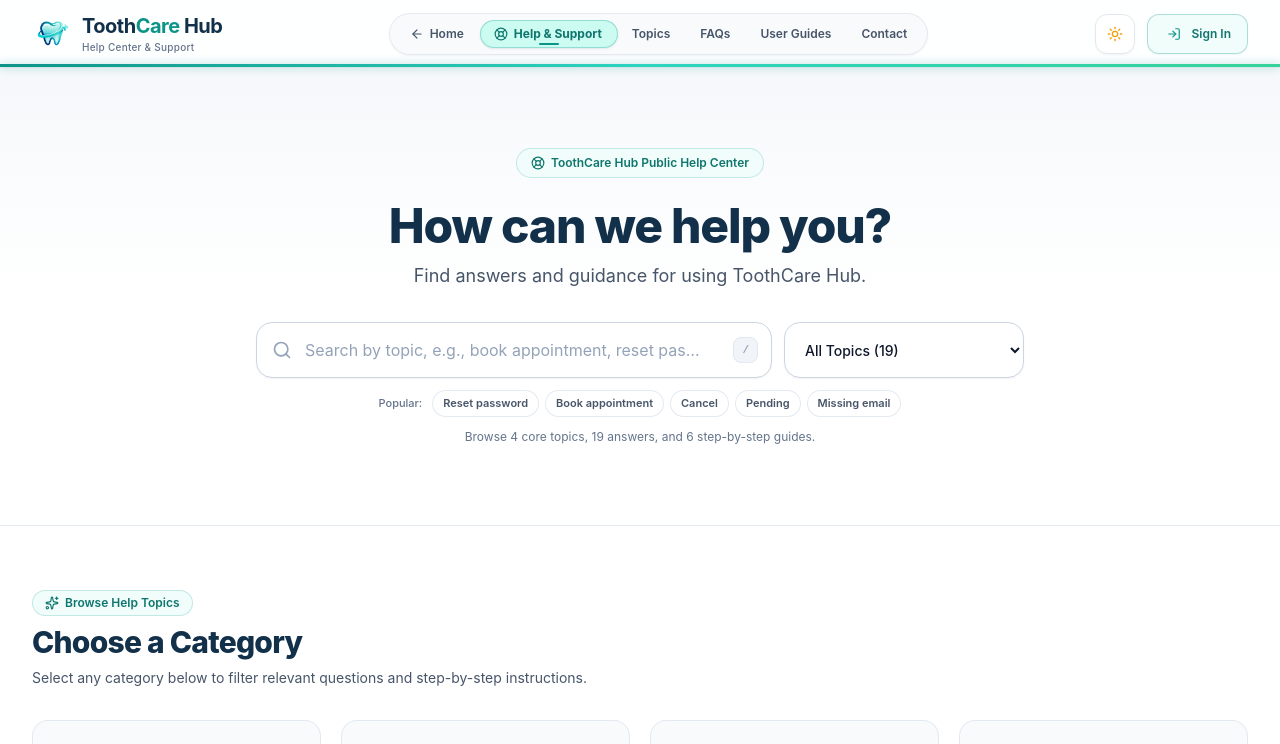
Test: Public Help Center & Support (/help-support) › searches across FAQ titles and answer body text, shows empty state for no matches, and resets cleanly
// Match text inside an answer body ("sanitization buffers")
Step 1. Replace the text in the search field named "Search help articles, FAQs, and user guides" with "sanitization buffers" → x=514, y=350, box left=256, top=322, right=772, bottom=378
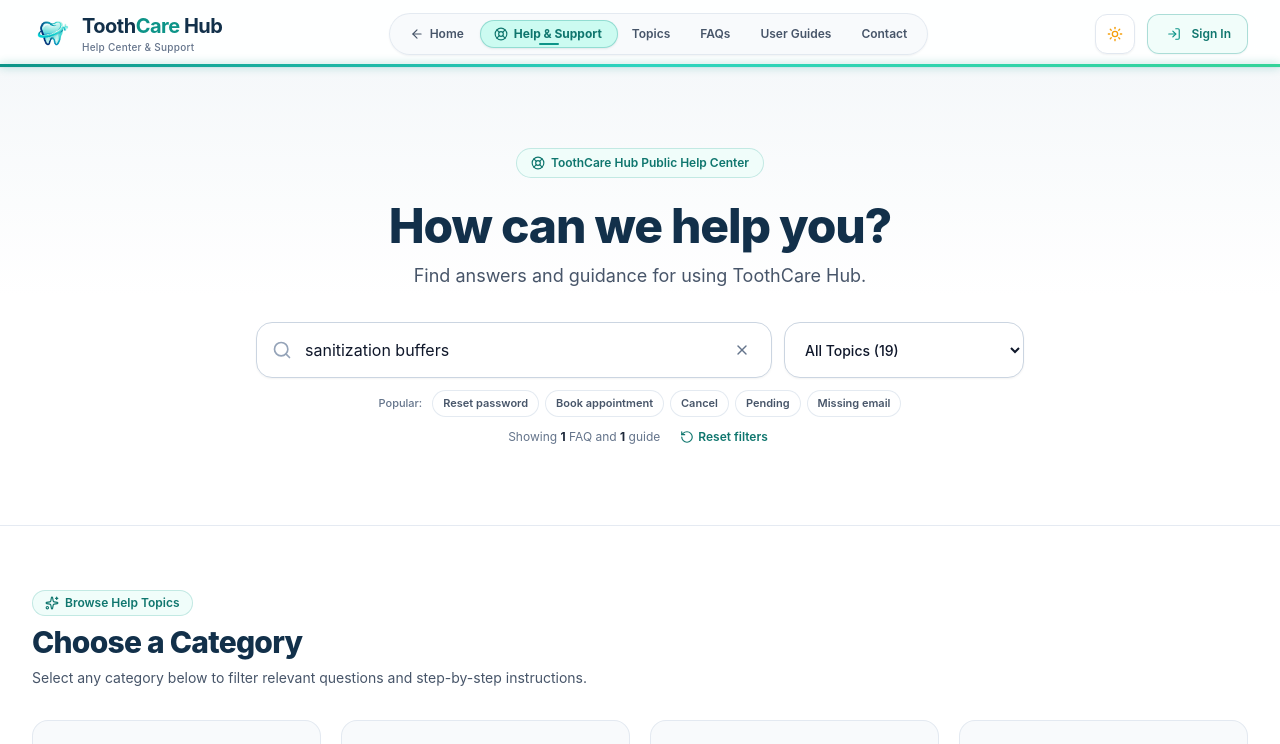
expect the button "How do I log in?" is not shown: met
// No-results empty state
Step 2. Replace the text in the search field named "Search help articles, FAQs, and user guides" with "zzzz-unmatched-topic" → x=514, y=350, box left=256, top=322, right=772, bottom=378
(page scrolled)
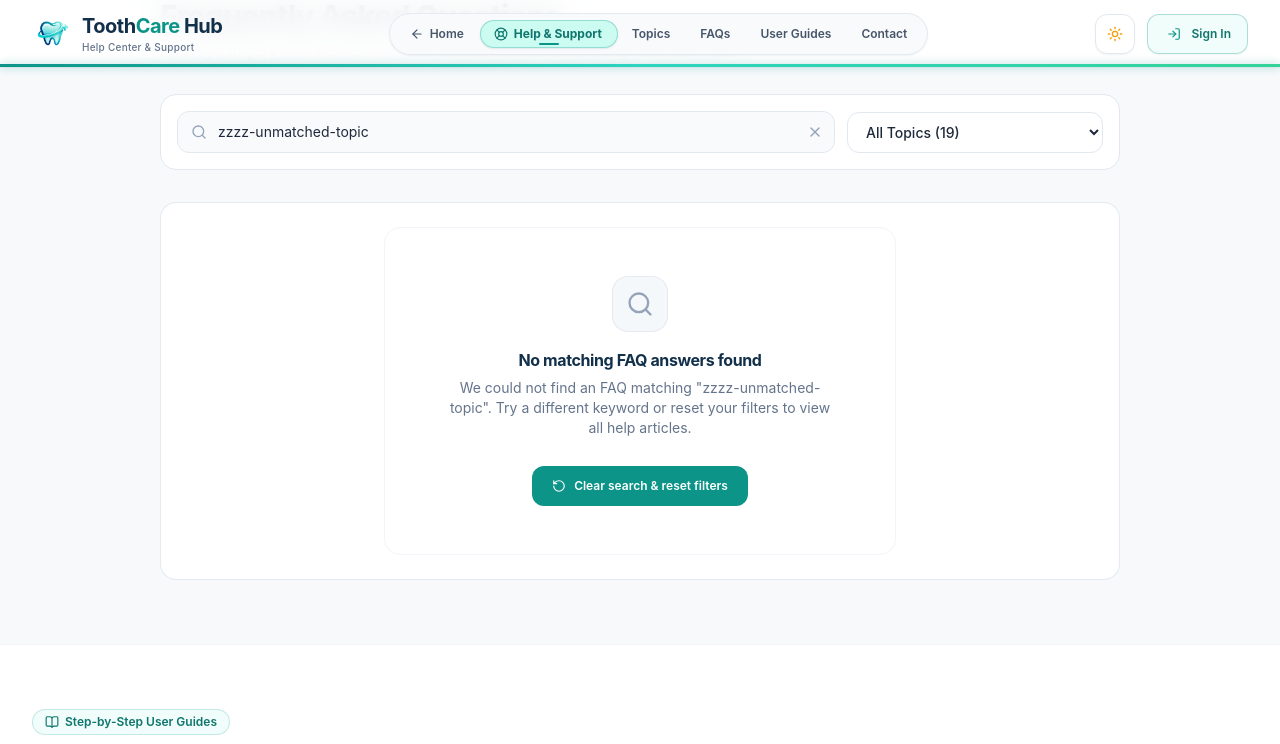
expect the heading "No matching FAQ answers found" is shown: met, box left=518, top=348, right=762, bottom=372
// Reset button restores full FAQ list
Step 3. Click the button "Clear search & reset filters" → x=640, y=486, box left=532, top=466, right=748, bottom=506
(page scrolled)
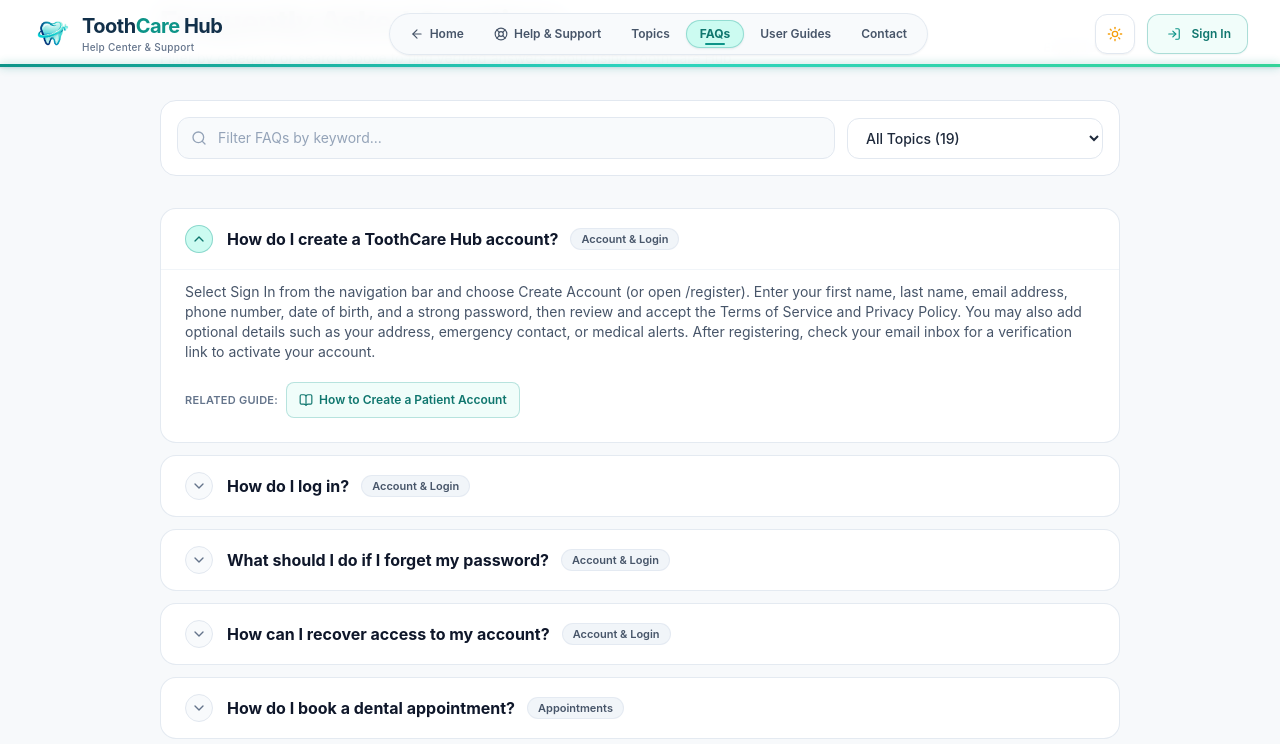
expect the button "How do I log in? Account & Login" is shown: met, box left=161, top=456, right=1119, bottom=516
